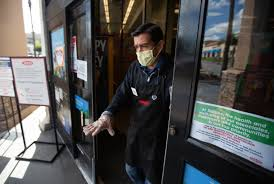with_mask: (134, 39, 156, 69)
